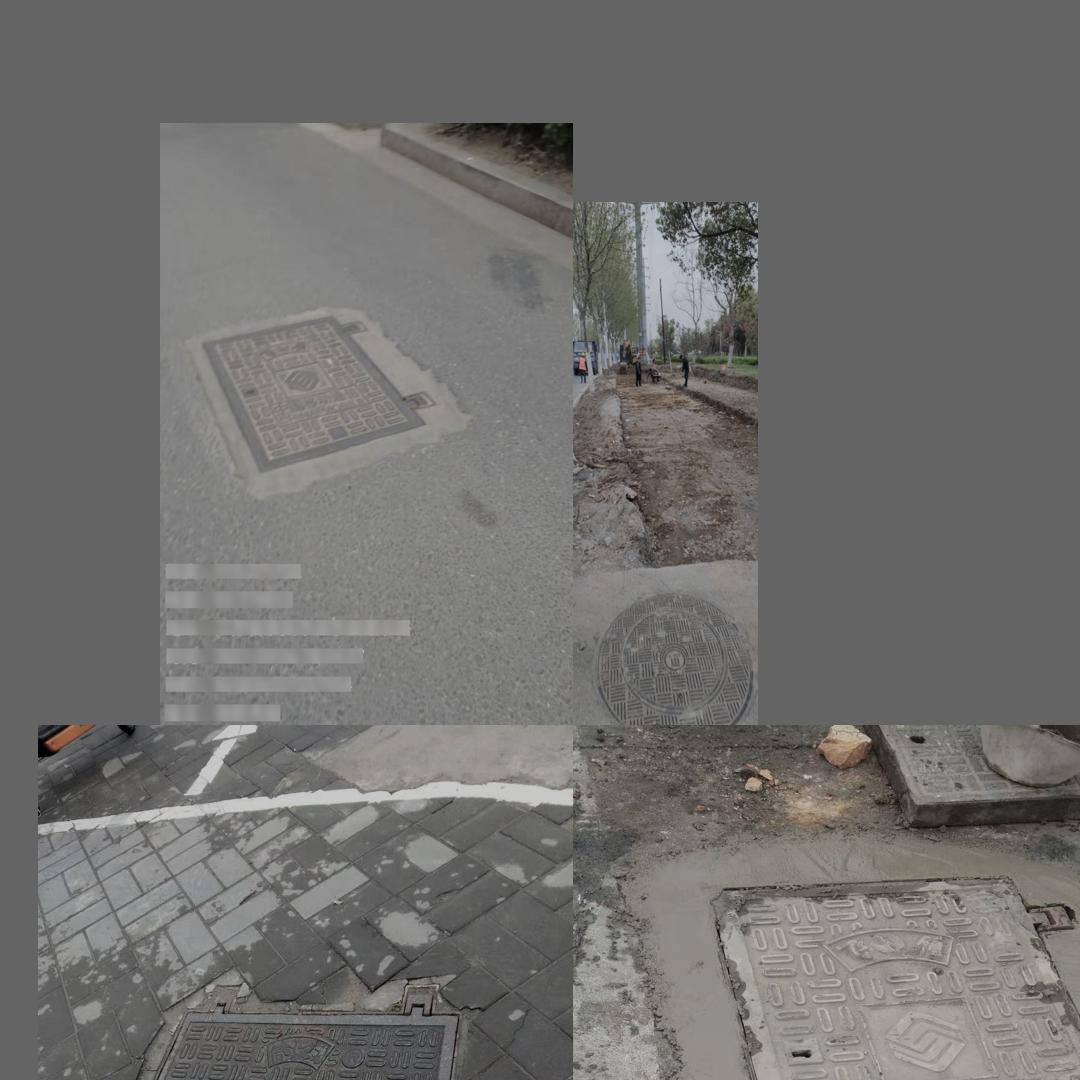good: (708, 876, 1080, 1080), (198, 308, 456, 466), (101, 989, 463, 1080), (589, 586, 752, 725)
